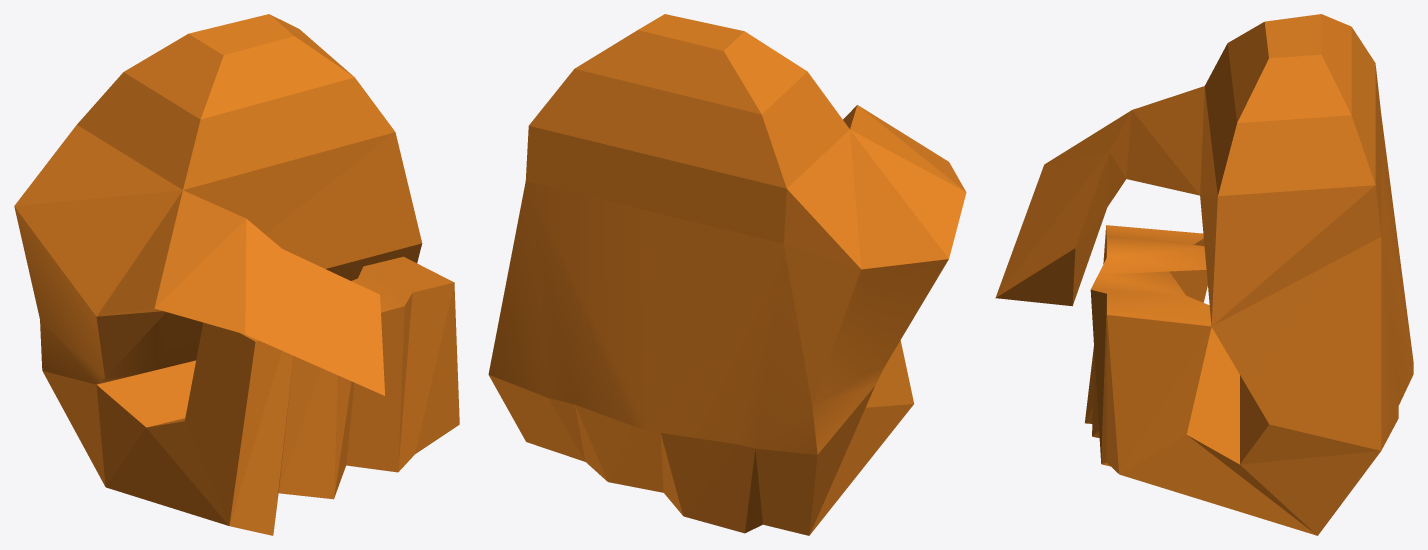
Rendered from Char_DK_Hand.FBX.
3 renders of one model, left to right at view 1: azimuth 30°, elevation 25°; view 2: azimuth 150°, elevation 25°; view 3: azimuth 270°, elevation 25°, orthographic. The views are drawn at different scales.
Visible parts, largest first — view 1: Box005; view 2: Box005; view 3: Box005.
Boxes of the visible parts, box(x1,y1,x2,y2) form: Box005: box(14, 14, 459, 535); Box005: box(488, 14, 966, 535); Box005: box(995, 14, 1413, 535).
Bounding box in the file's own units: 18.16 × 22.41 × 18.53.
